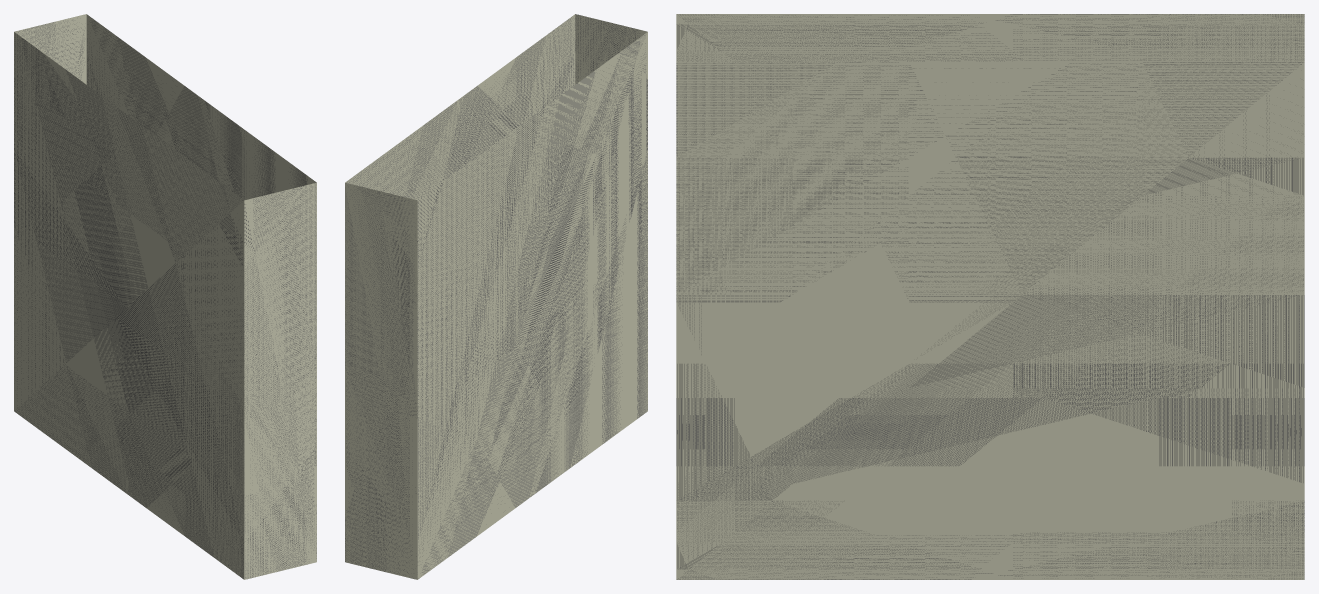
Rendered from original-6.obj.
3 views of the same model, side by side, from view 1: azimuth 30°, elevation 25°; view 2: azimuth 150°, elevation 25°; view 3: azimuth 270°, elevation 25° (orthographic). The views are drawn at different scales.
Parts seen in each view (by area): view 1: mesh3/mesh3-geometry/material_4/component_0#mesh3-geometry; view 2: mesh3/mesh3-geometry/material_4/component_0#mesh3-geometry; view 3: mesh3/mesh3-geometry/material_4/component_0#mesh3-geometry.
Part boxes in pixels (x1,y1,x2,y2): mesh3/mesh3-geometry/material_4/component_0#mesh3-geometry: (14,14,316,579); mesh3/mesh3-geometry/material_4/component_0#mesh3-geometry: (345,14,647,579); mesh3/mesh3-geometry/material_4/component_0#mesh3-geometry: (676,14,1304,579).
Bounding box in the file's own units: 0.1577 × 0.7887 × 0.8676.
